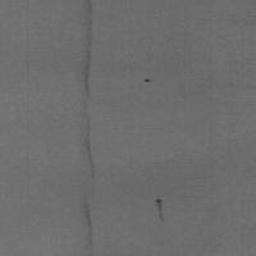Inclusion: (78, 0, 97, 256), (155, 197, 166, 223), (142, 77, 152, 83)
